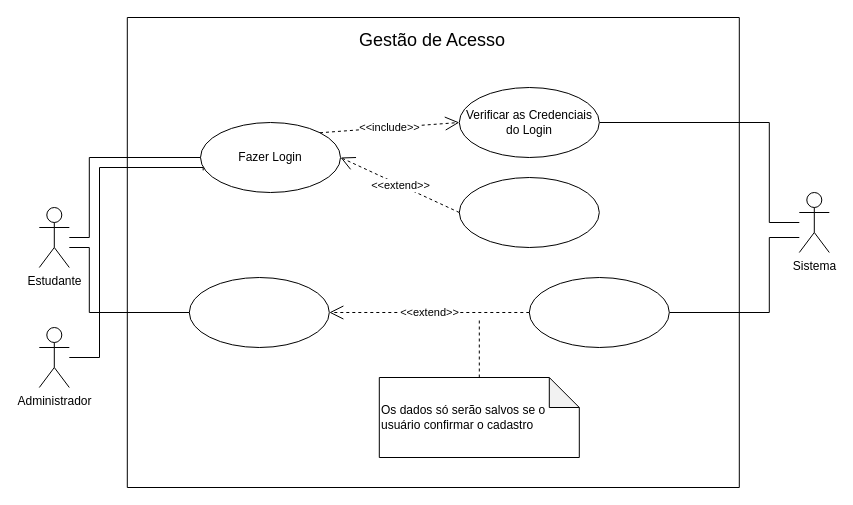
Some shapes in this 853 by 505 pixel diagram are drawn without their labels. The centre of each missing label's shape, as x and y in pixels:
Cadastrar Conta: point 258,312
Recuperar Senha: point 528,212
Salvar Conta: point 598,312
